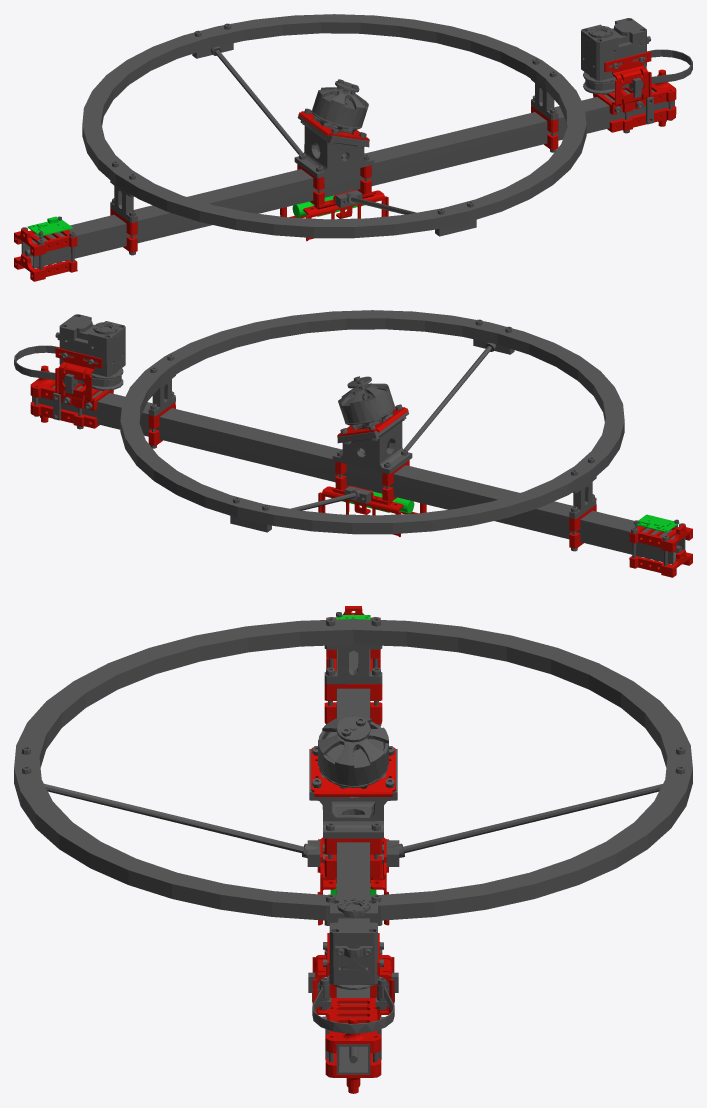
File: tilt_20deg_link1.dae
3 renders of one model, top to bottom at view 1: azimuth 30°, elevation 25°; view 2: azimuth 150°, elevation 25°; view 3: azimuth 270°, elevation 25°, orthographic. The views are drawn at different scales.
Visible parts, largest first — view 1: tilt_link1_balck_part, tilt_link1_red_part, link1_green_part; view 2: tilt_link1_balck_part, tilt_link1_red_part, link1_green_part; view 3: tilt_link1_balck_part, tilt_link1_red_part.
Boxes of the visible parts, x1,y1,x2,y2 form: tilt_link1_balck_part: (21, 14, 692, 269); tilt_link1_red_part: (14, 51, 676, 281); link1_green_part: (27, 195, 375, 236); tilt_link1_balck_part: (14, 310, 685, 565); tilt_link1_red_part: (30, 347, 692, 577); link1_green_part: (331, 491, 679, 532); tilt_link1_balck_part: (14, 612, 692, 1077); tilt_link1_red_part: (311, 606, 395, 1093).
Size of the model in its own units: 0.6083 by 0.3997 by 0.1205.
